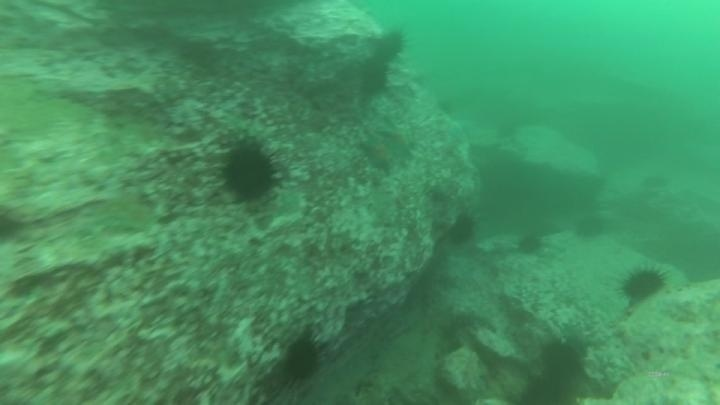echinus: (215, 136, 285, 207), (281, 333, 324, 384), (618, 263, 668, 304), (356, 58, 391, 98), (372, 28, 409, 64), (445, 210, 479, 248), (571, 212, 608, 242), (514, 231, 546, 258)
holothurian: (308, 314, 399, 405)
starfish: (358, 130, 401, 174), (377, 123, 418, 162)
